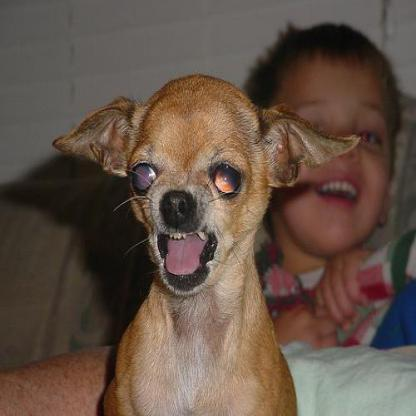dog: (32, 78, 363, 415)
